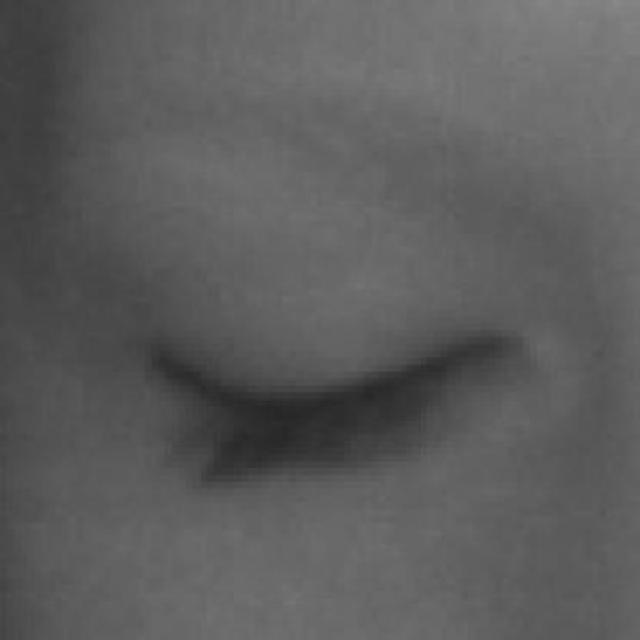drowsy: (140, 242, 518, 586)
